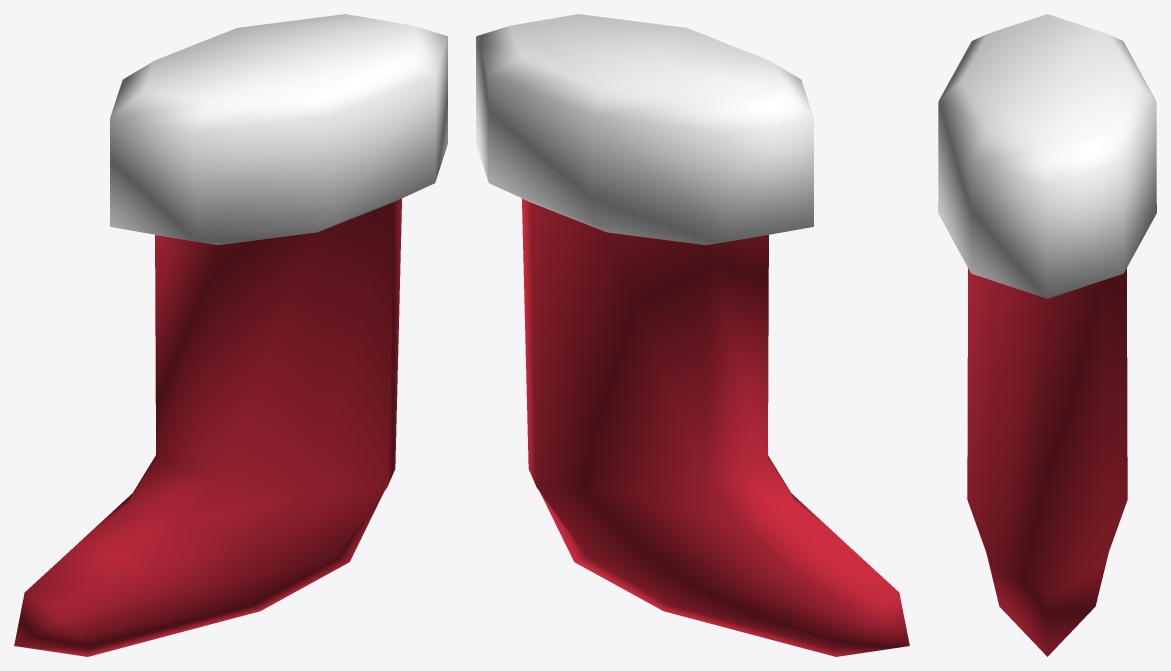
File: SockXmas.glb
3 renders of one model, left to right at view 1: azimuth 30°, elevation 25°; view 2: azimuth 150°, elevation 25°; view 3: azimuth 270°, elevation 25°, orthographic. The views are drawn at different scales.
Parts seen in each view (by area): view 1: SockXmas; view 2: SockXmas; view 3: SockXmas.
Part boxes in pixels (x1,y1,x2,y2): SockXmas: (14,14,447,656); SockXmas: (476,14,909,656); SockXmas: (938,14,1156,656).
Size of the model in its own units: 0.8427 by 1.03 by 0.3556.
Materials: 1 (1 with a texture image).
